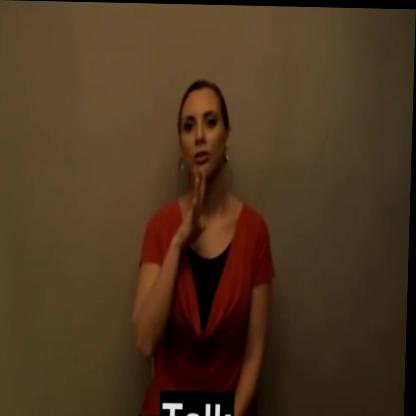Talk: (166, 71, 255, 256)
